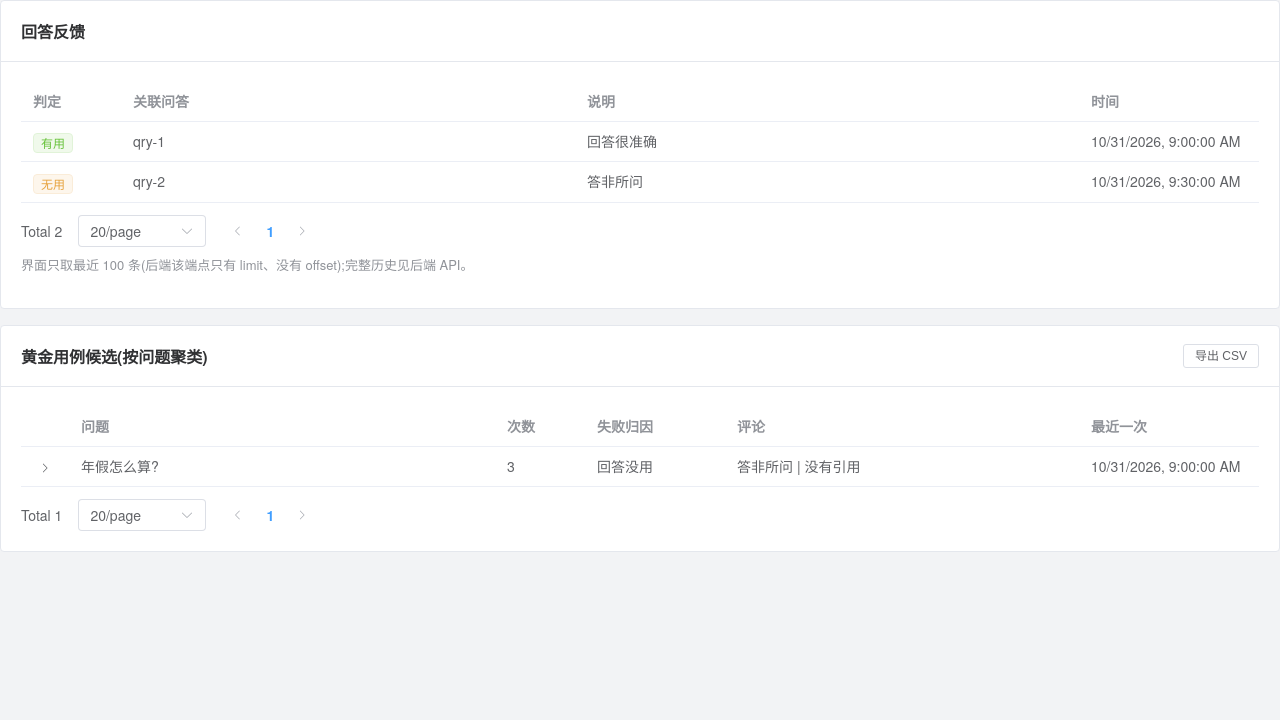
Test case: 查询日志与反馈页组件行为 › 反馈页 › CSV 导出按原始文本处理,不走统一响应信封拆解
The width and height of the screenshot is (1280, 720).
Click the button with test id "feedback-export". click: (1221, 356)
box: [1183,344,1259,368]
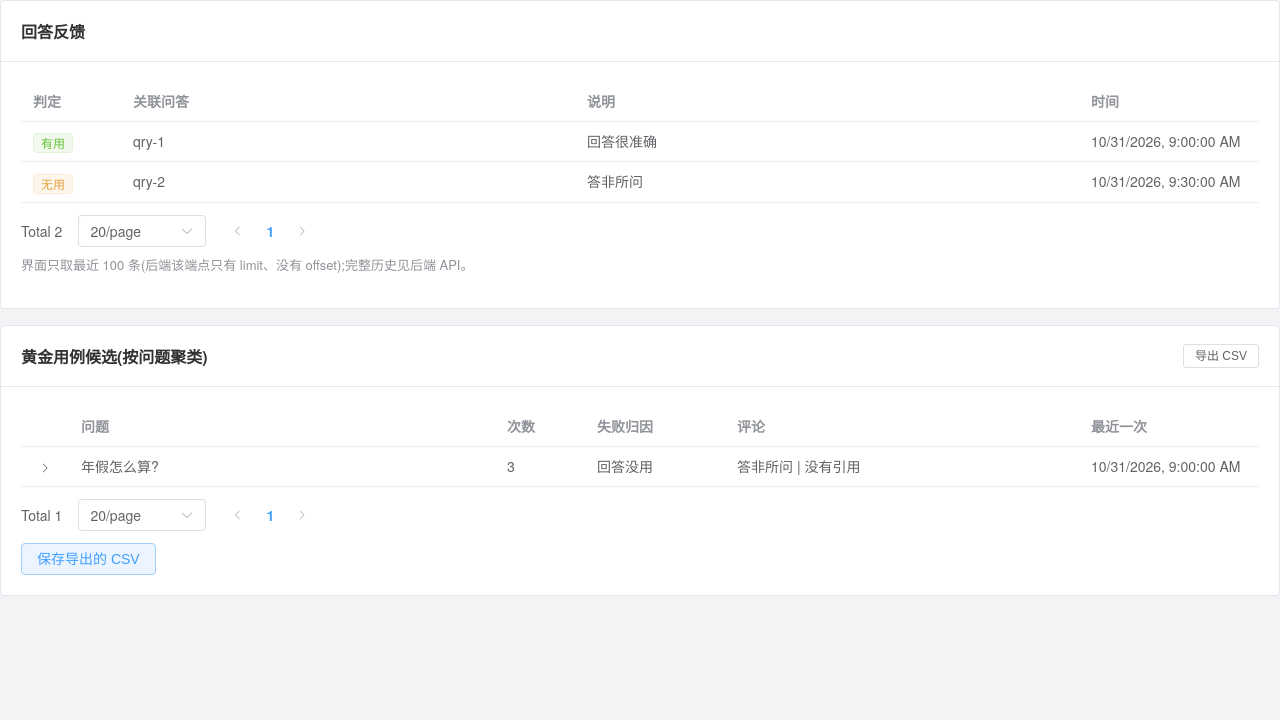
Result: the text "保存导出的 CSV" is shown at [37,552,140,566]
